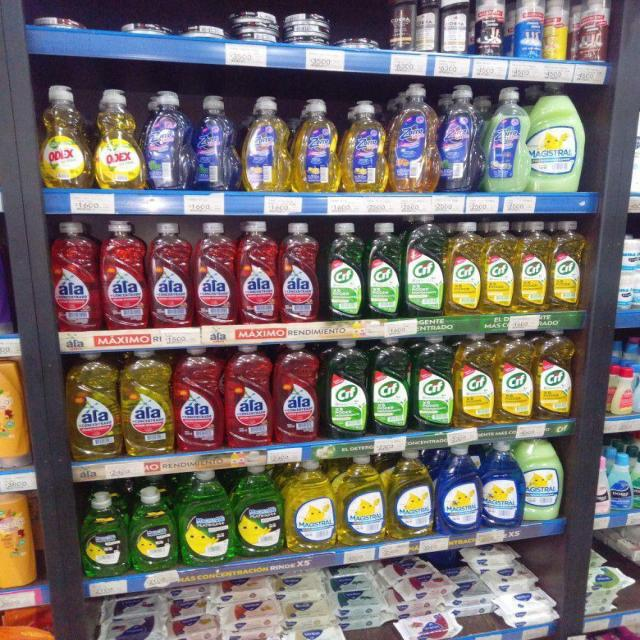ala_conc_amarillo: (66, 350, 120, 460), (122, 348, 173, 455)
ala_conc_rojo: (50, 220, 99, 332), (174, 346, 223, 452), (101, 220, 148, 330), (224, 343, 272, 448), (274, 341, 320, 444), (149, 221, 192, 329), (194, 220, 237, 326), (238, 220, 278, 325), (280, 222, 321, 324)
cif_conc_bot_amarilla: (455, 332, 494, 427), (535, 328, 574, 420), (496, 330, 534, 423), (447, 220, 482, 316), (549, 220, 585, 311), (516, 220, 548, 312), (484, 220, 515, 314)
cif_conc_botella_verde: (323, 339, 368, 439), (404, 215, 444, 318), (412, 334, 454, 430), (324, 221, 364, 321), (370, 336, 410, 434), (366, 220, 402, 320)
magistral_con_amarillo: (286, 460, 336, 551), (338, 454, 386, 546), (388, 450, 433, 539)
magistral_con_azul: (437, 446, 479, 535), (481, 441, 521, 528)
magistral_con_crema: (529, 84, 585, 194), (522, 438, 564, 521)
magistral_con_verde: (176, 475, 232, 570), (232, 465, 288, 559), (81, 490, 128, 578), (130, 486, 177, 572)
odex: (38, 84, 90, 188), (94, 88, 142, 190)
zorro: (144, 90, 192, 190), (484, 86, 528, 193), (242, 95, 290, 193), (439, 84, 482, 192), (294, 98, 339, 193), (343, 100, 386, 193)
